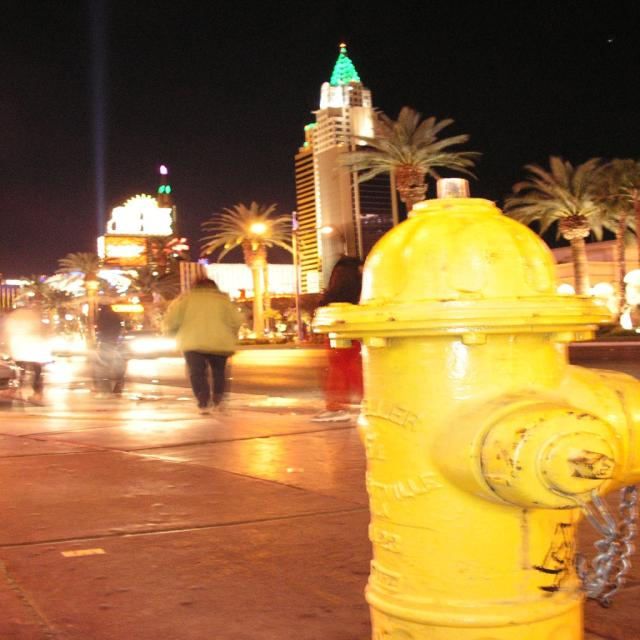fire_hydrant: (312, 178, 640, 640)
